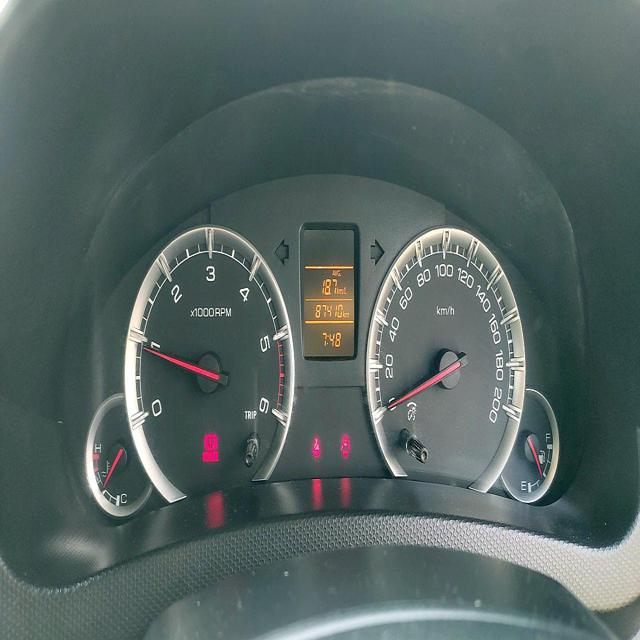odometer: (313, 300, 343, 321)
